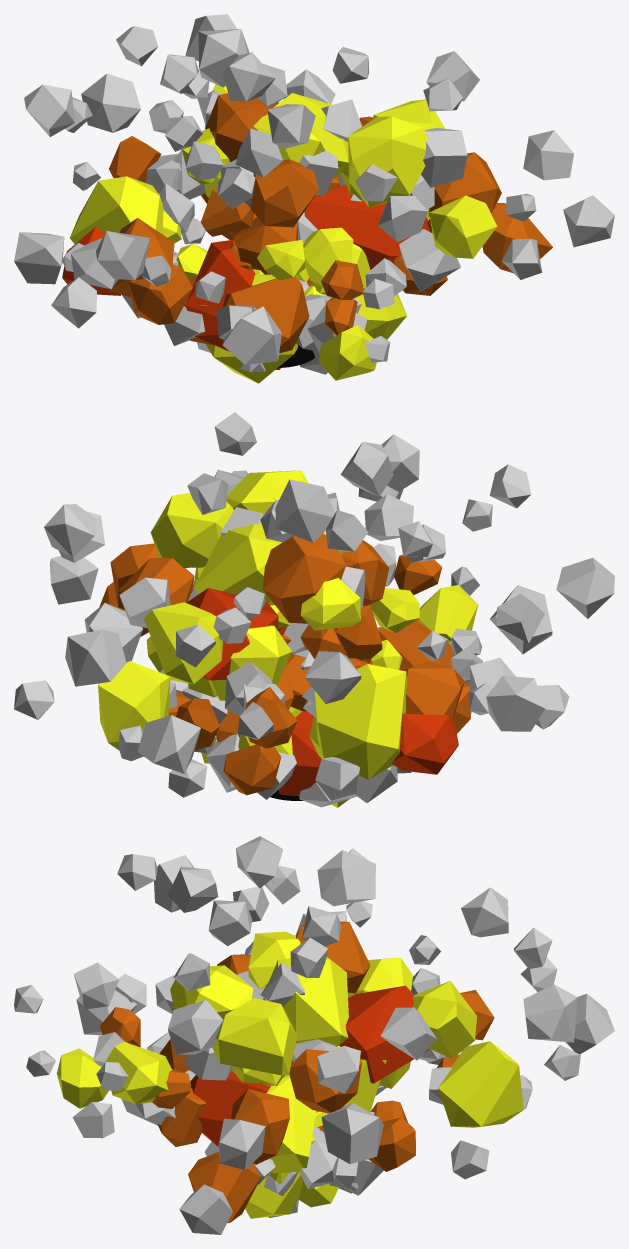
The model's file is Explosion0024.obj.
3 renders of one model, top to bottom at view 1: azimuth 30°, elevation 25°; view 2: azimuth 150°, elevation 25°; view 3: azimuth 270°, elevation 25°, orthographic. The views are drawn at different scales.
Parts seen in each view (by area): view 1: Cube_Material, Cube.002_Material.003, Cube.001_Material.002, Cube.003_Material.004; view 2: Cube_Material, Cube.002_Material.003, Cube.001_Material.002, Cube.003_Material.004; view 3: Cube_Material, Cube.002_Material.003, Cube.001_Material.002, Cube.003_Material.004.
Boxes of the visible parts, x1=… form: Cube_Material: x1=14, y1=14, x2=614, y2=374; Cube.002_Material.003: x1=70, y1=84, x2=497, y2=383; Cube.001_Material.002: x1=107, y1=93, x2=552, y2=353; Cube.003_Material.004: x1=62, y1=102, x2=430, y2=369; Cube_Material: x1=14, y1=412, x2=614, y2=807; Cube.002_Material.003: x1=98, y1=470, x2=478, y2=807; Cube.001_Material.002: x1=99, y1=533, x2=471, y2=795; Cube.003_Material.004: x1=186, y1=588, x2=458, y2=795; Cube_Material: x1=14, y1=836, x2=614, y2=1234; Cube.002_Material.003: x1=56, y1=931, x2=523, y2=1218; Cube.001_Material.002: x1=99, y1=921, x2=494, y2=1223; Cube.003_Material.004: x1=190, y1=985, x2=429, y2=1146.
Size of the model in its own units: 14.03 by 8.59 by 13.72.
